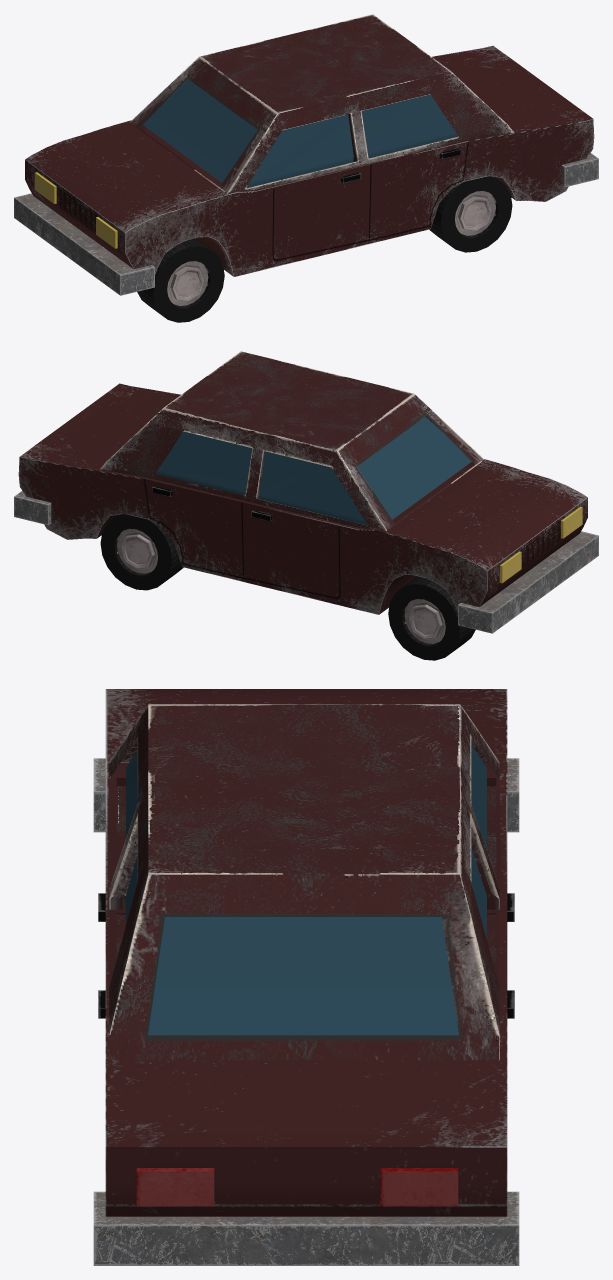
File: carfix.fbx
The picture shows the model from 3 angles, top to bottom: view 1: azimuth 30°, elevation 25°; view 2: azimuth 150°, elevation 25°; view 3: azimuth 270°, elevation 25°; orthographic projection. The views are drawn at different scales.
Parts seen in each view (by area): view 1: car; view 2: car; view 3: car.
Part boxes in pixels (bbox=[...]): car: bbox=[14, 14, 598, 322]; car: bbox=[14, 351, 598, 660]; car: bbox=[93, 689, 519, 1265].
Size of the model in its own units: 199 by 70.59 by 76.59.
Materials: 5 (5 with a texture image).
